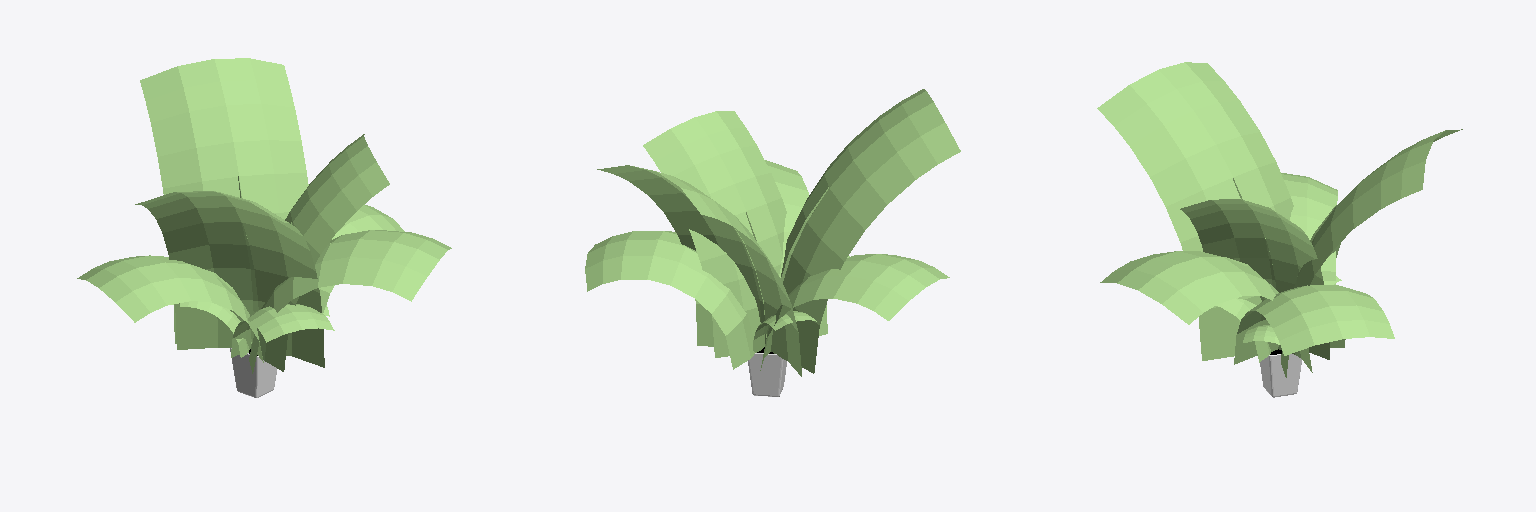
File: Monstera2.obj
3 views of the same model, side by side, from view 1: azimuth 30°, elevation 25°; view 2: azimuth 150°, elevation 25°; view 3: azimuth 270°, elevation 25° (orthographic).
Visible parts, largest first — view 1: Monstera202, Monstera203, Monstera205, Monstera2, Monstera208, Monstera207, Pot, Monstera201, Monstera204; view 2: Monstera203, Monstera2, Monstera202, Monstera201, Monstera208, Monstera205, Pot, Monstera204; view 3: Monstera203, Monstera2, Monstera201, Monstera205, Monstera202, Monstera208, Pot, Monstera207.
Boxes of the visible parts, <box> form: Monstera202: <box>140,58,308,343</box>; Monstera203: <box>135,191,324,367</box>; Monstera205: <box>249,230,451,373</box>; Monstera2: <box>260,134,389,371</box>; Monstera208: <box>77,255,263,362</box>; Monstera207: <box>231,304,334,357</box>; Pot: <box>230,348,276,397</box>; Monstera201: <box>319,204,404,312</box>; Monstera204: <box>180,301,249,357</box>; Monstera203: <box>781,89,960,373</box>; Monstera2: <box>643,111,786,357</box>; Monstera202: <box>597,165,801,376</box>; Monstera201: <box>585,231,754,369</box>; Monstera208: <box>760,254,949,370</box>; Monstera205: <box>695,160,827,346</box>; Pot: <box>748,353,786,396</box>; Monstera204: <box>753,311,821,352</box>; Monstera203: <box>1097,62,1293,360</box>; Monstera2: <box>1180,199,1329,359</box>; Monstera201: <box>1234,285,1394,364</box>; Monstera205: <box>1100,251,1312,372</box>; Monstera202: <box>1281,129,1462,377</box>; Monstera208: <box>1281,173,1337,284</box>; Pot: <box>1260,354,1301,397</box>; Monstera207: <box>1216,298,1270,362</box>.
Bounding box in the file's own units: 94.11 × 77.03 × 94.54.